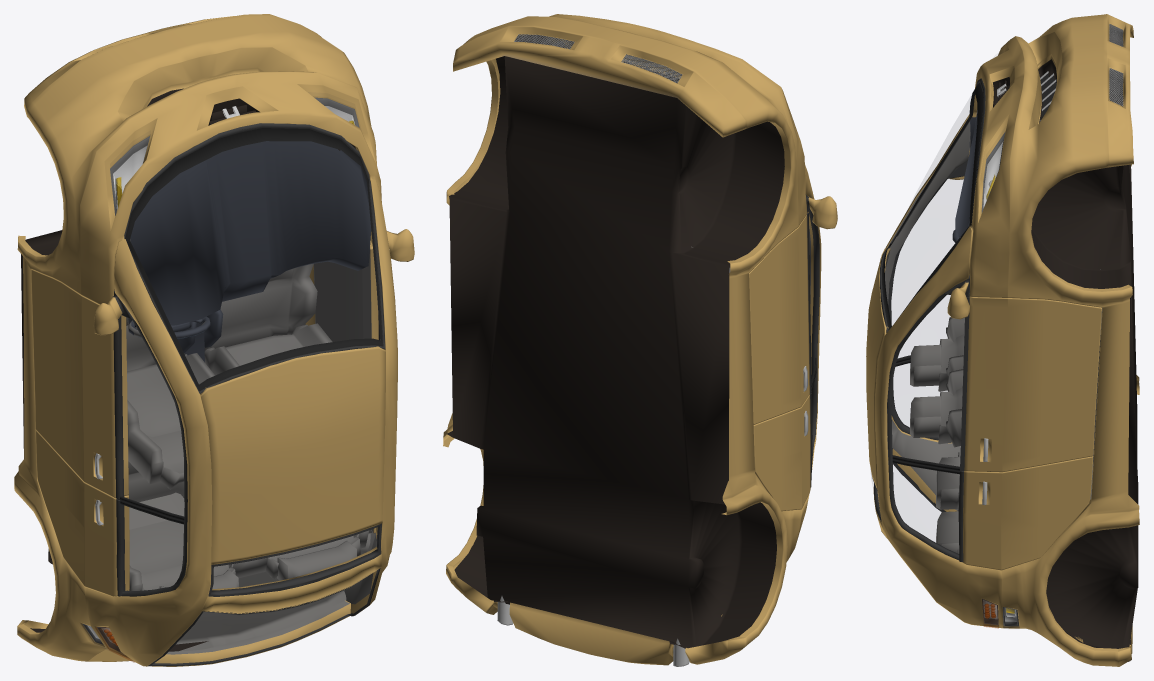
File: smart.obj
3 views of the same model, side by side, from view 1: azimuth 30°, elevation 25°; view 2: azimuth 150°, elevation 25°; view 3: azimuth 270°, elevation 25° (orthographic). The views are drawn at different scales.
Parts seen in each view (by area): view 1: Mesh_0.001; view 2: Mesh_0.001; view 3: Mesh_0.001.
Part boxes in pixels (x1,y1,x2,y2): Mesh_0.001: (14,14,414,666); Mesh_0.001: (443,14,837,666); Mesh_0.001: (866,14,1139,666).
Bounding box in the file's own units: 1.93 × 3.59 × 1.52.
Materials: 12 (12 with a texture image).
